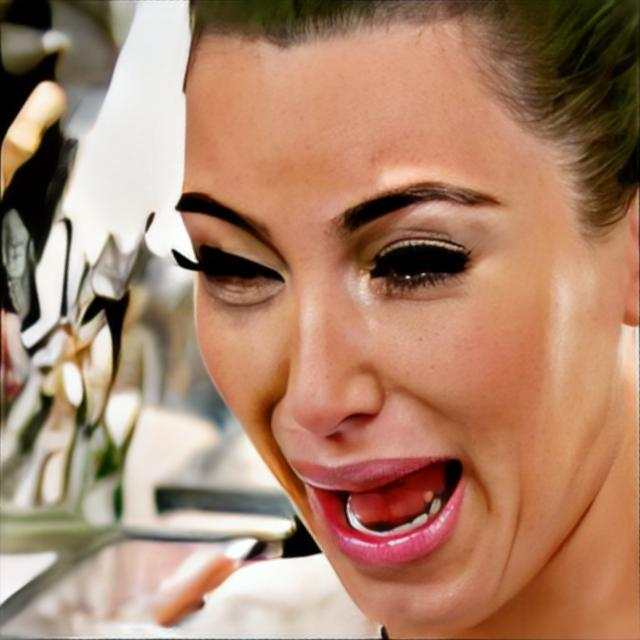sad: (169, 0, 622, 640)
